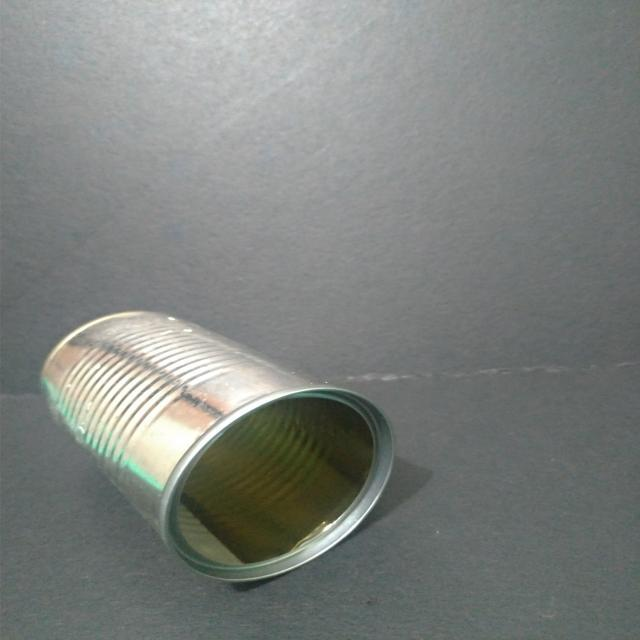metal-can: (38, 305, 402, 583)
